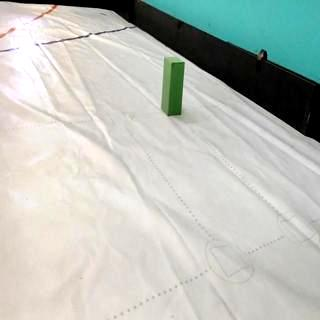greenbox: (162, 56, 186, 116)
